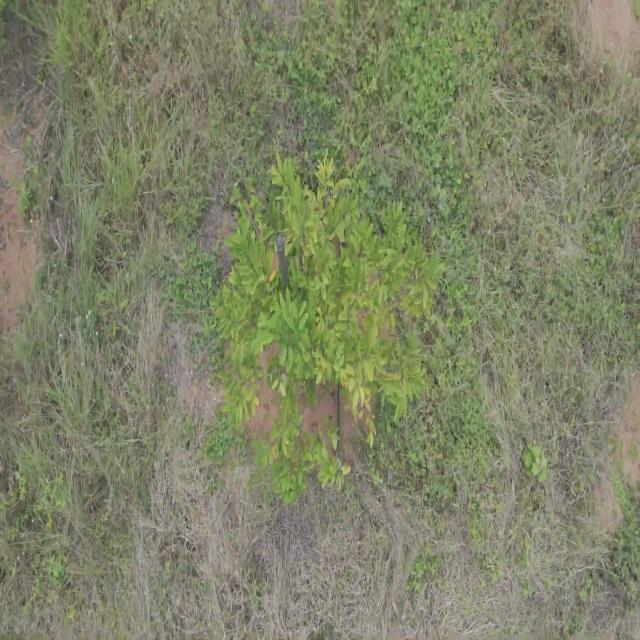notMangoTree: (208, 148, 440, 511)
